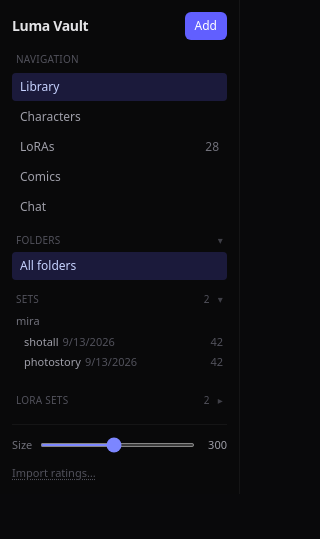
Scenario: FolderSidebar sections › lists only the training rounds under LoRA sets, and opening it closes Sets
The width and height of the screenshot is (320, 539).
Click the button "LoRA sets 2 ▸": (120, 402) [12, 392, 227, 412]
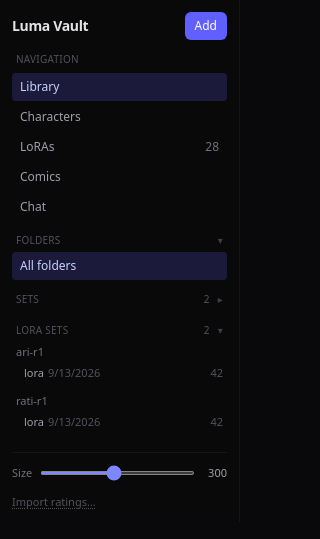
Expected: the heading "ari-r1" is shown, [16, 344, 44, 359]
Expected: the heading "rati-r1" is shown, [16, 393, 48, 408]
Expected: the heading "mira" is gone
Click the button "Sets 2 ▸": (120, 302) [12, 292, 227, 311]
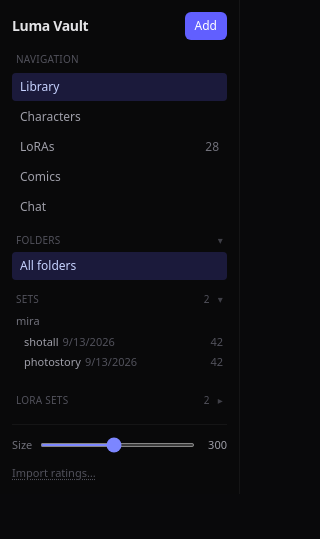
Expected: the heading "mira" is shown, [16, 313, 40, 328]
Expected: the heading "ari-r1" is gone
